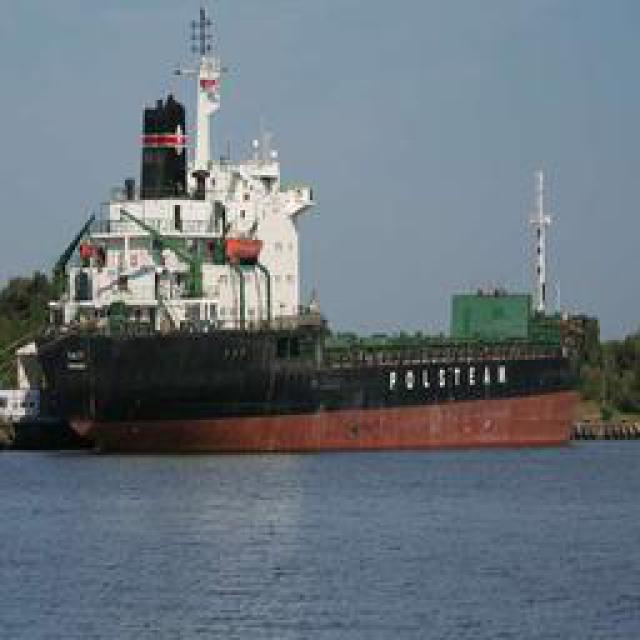Ship: (42, 19, 515, 449)
